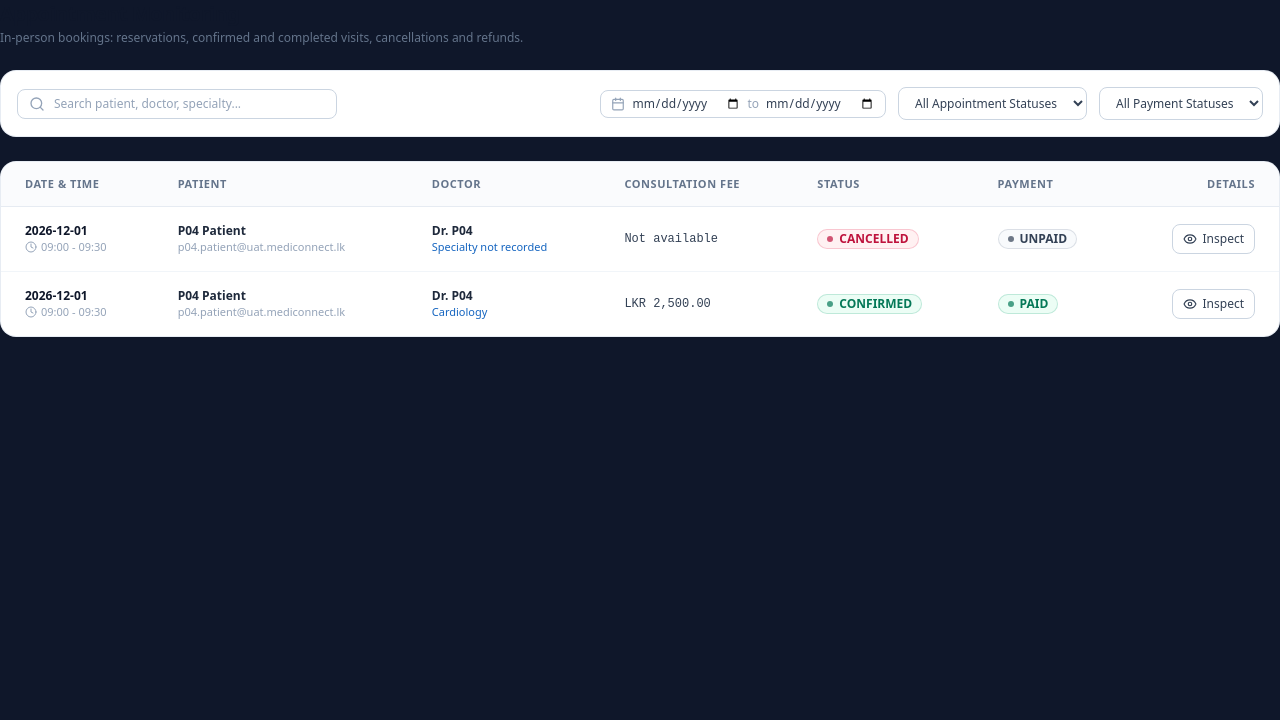
Test: Appointments page (P3-B2) › renders an appointment whose fee is null without crashing and without inventing 0.00
The image size is (1280, 720).
Expected: the elements with test id "appointment-fee" read "Not available", "LKR 2,500.00", in this order, [600, 206, 793, 272]; [600, 272, 793, 336]
Expected: the text "Specialty not recorded" is shown, [432, 239, 547, 254]
What coordinates should you click on to do the following:
click the button "Inspect" in the row of "Specialty not recorded"
I would click on:
 (1213, 239)
Its box is [1172, 224, 1255, 254].
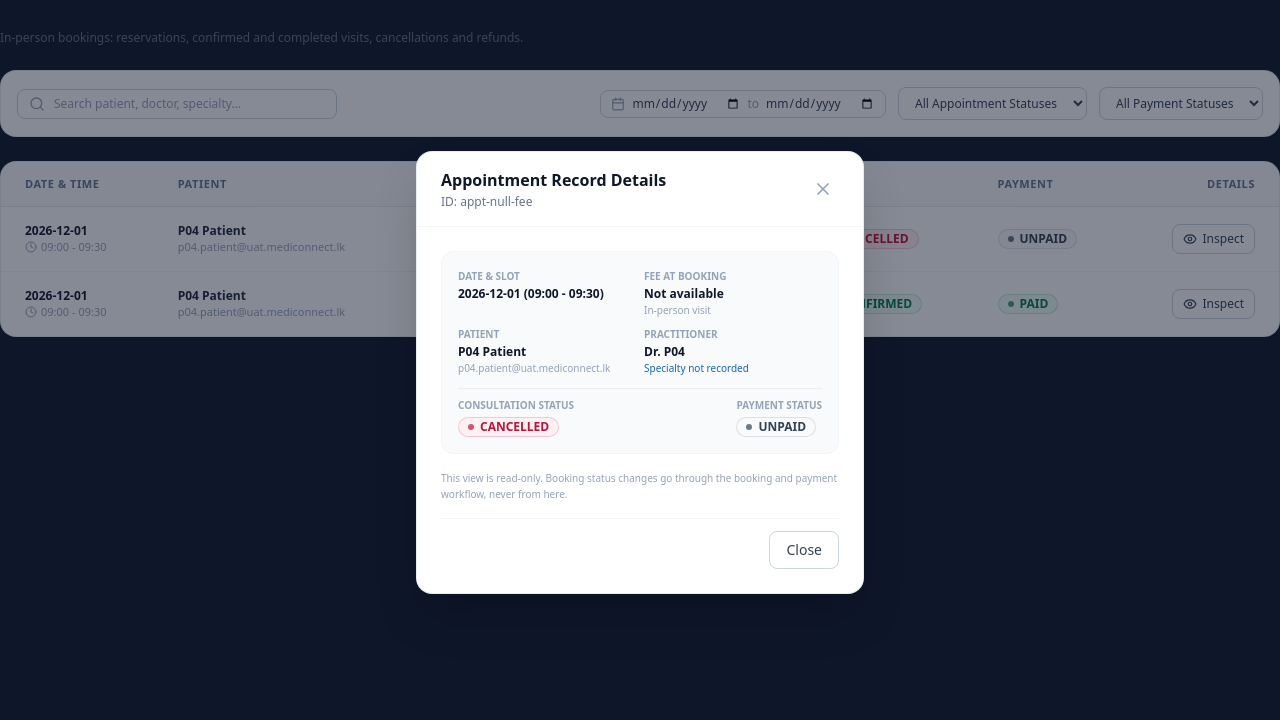
Result: the text with test id "appointment-detail-fee" reads "Not available" at [644, 284, 724, 302]
Result: the text "In-person visit" is shown at [644, 302, 711, 316]
